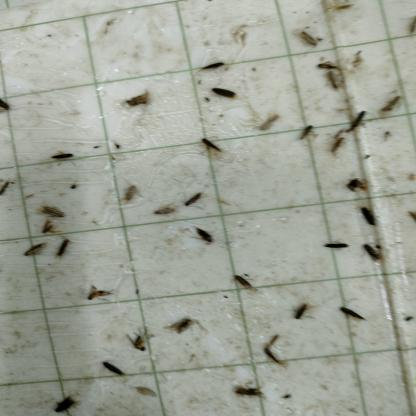prays_oleae: (259, 330, 292, 376), (343, 167, 382, 200), (124, 326, 154, 364), (37, 193, 71, 226), (162, 310, 203, 336), (52, 378, 80, 416), (338, 298, 368, 333), (379, 87, 406, 122), (295, 19, 321, 54), (250, 110, 282, 138), (358, 197, 379, 238), (83, 279, 118, 301), (200, 131, 225, 161), (233, 270, 256, 300), (99, 357, 126, 381), (0, 172, 14, 218), (290, 296, 310, 325), (326, 237, 352, 259), (210, 83, 233, 107), (366, 238, 384, 268), (125, 91, 151, 111), (297, 123, 317, 149), (0, 86, 12, 129), (21, 238, 48, 257), (234, 383, 264, 400), (51, 146, 74, 168), (347, 111, 367, 135), (119, 180, 136, 208), (200, 58, 228, 73), (196, 225, 215, 247), (41, 215, 59, 237), (184, 193, 204, 211), (153, 205, 176, 220), (54, 239, 73, 256)
